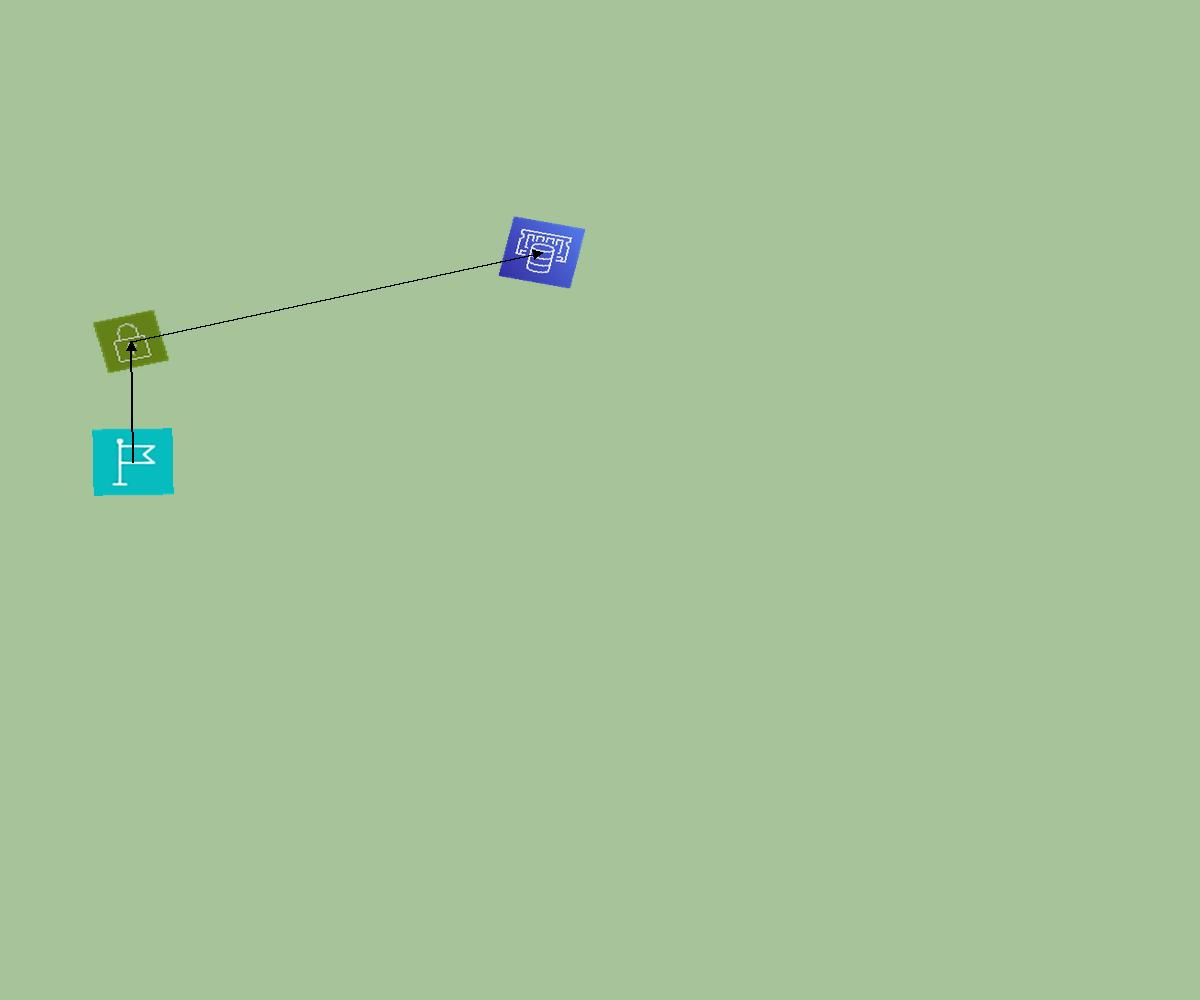AWS-ElastiCache: (498, 216, 586, 289)
AWS-Public-subnet: (92, 309, 170, 374)
AWS-Region: (92, 428, 174, 496)
